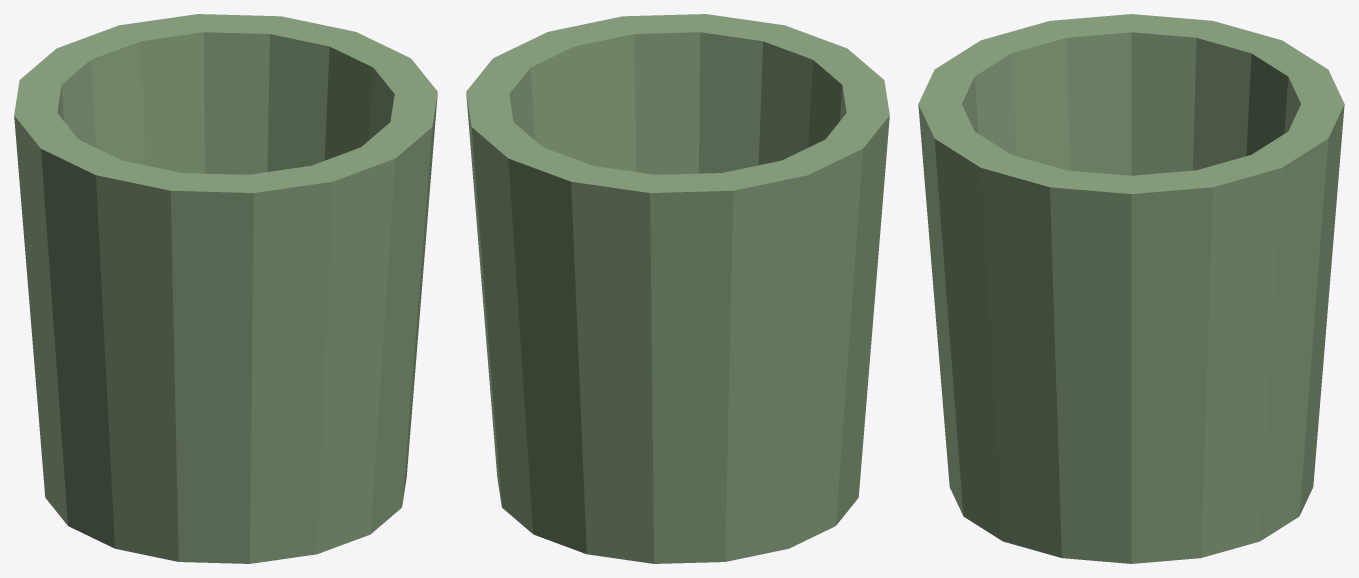
File: mug_green.fbx
3 views of the same model, side by side, from view 1: azimuth 30°, elevation 25°; view 2: azimuth 150°, elevation 25°; view 3: azimuth 270°, elevation 25° (orthographic).
Parts seen in each view (by area): view 1: Cylinder; view 2: Cylinder; view 3: Cylinder.
Part boxes in pixels (x1,y1,x2,y2): Cylinder: (14, 14, 437, 563); Cylinder: (466, 14, 889, 563); Cylinder: (918, 14, 1344, 563).
Bounding box in the file's own units: 200 × 198 × 200.
